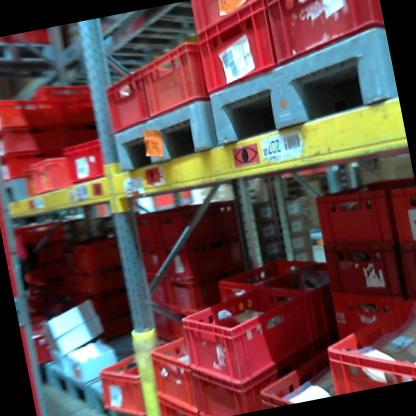pallet: (196, 24, 400, 147), (42, 331, 168, 416), (106, 98, 220, 173), (82, 362, 156, 416), (0, 29, 61, 82), (0, 174, 28, 206)
small_load_carrier: (175, 273, 333, 396), (191, 337, 343, 416), (187, 0, 282, 105), (319, 293, 416, 394), (254, 255, 350, 349), (310, 172, 406, 262), (251, 331, 362, 407), (261, 0, 387, 63), (132, 35, 211, 125), (204, 251, 320, 312), (143, 323, 210, 416), (325, 233, 408, 306), (91, 338, 168, 416), (160, 225, 249, 286), (157, 194, 244, 255), (162, 261, 237, 321), (333, 275, 404, 334), (103, 68, 159, 137), (0, 84, 61, 136), (0, 145, 68, 191), (187, 0, 265, 40), (46, 73, 106, 125), (66, 257, 129, 306), (64, 130, 117, 185), (0, 115, 63, 160), (10, 213, 74, 255), (64, 233, 122, 279), (383, 170, 416, 247), (134, 231, 169, 287), (25, 152, 74, 191), (131, 202, 167, 250), (165, 303, 199, 349), (138, 264, 170, 310), (394, 240, 416, 306), (154, 386, 198, 416), (145, 295, 171, 342)
